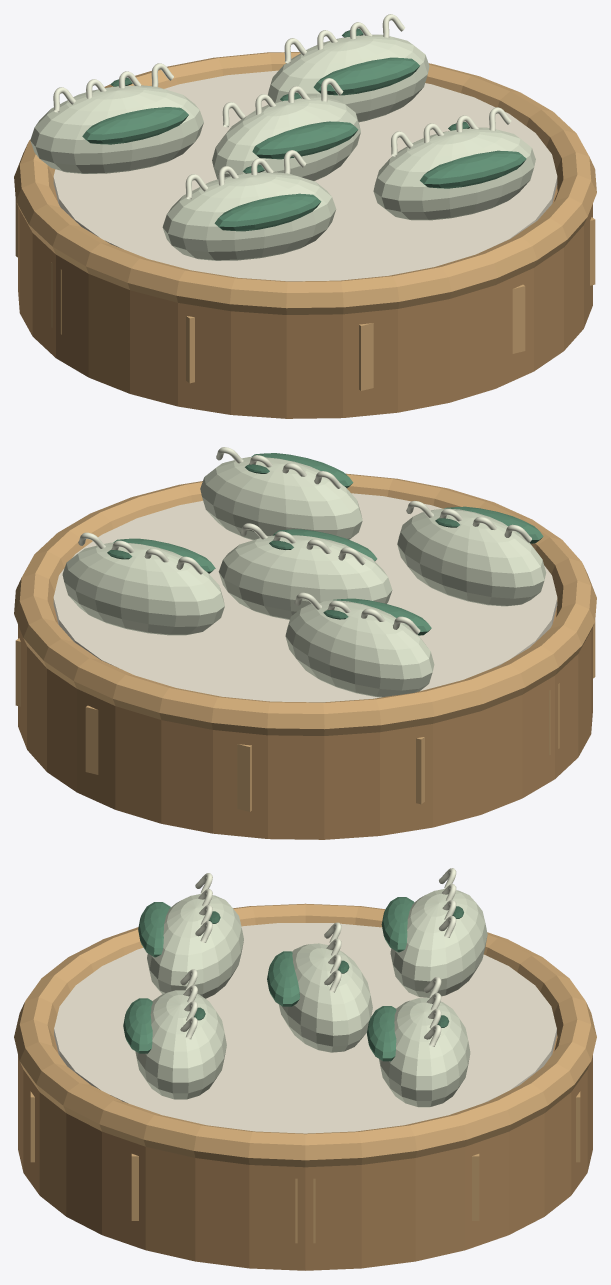
The model's file is steamer_seaweed_dumpling.glb.
The picture shows the model from 3 angles, top to bottom: view 1: azimuth 30°, elevation 25°; view 2: azimuth 150°, elevation 25°; view 3: azimuth 270°, elevation 25°; orthographic projection.
Parts seen in each view (by area): view 1: seaweed_dumpling_woven_base, seaweed_dumpling_paper_liner, seaweed_dumpling_top_binding, raw_vegetable_dumpling_0, raw_vegetable_dumpling_3, raw_vegetable_dumpling_1, raw_vegetable_dumpling_4, raw_vegetable_dumpling_2, open_green_filling_1, open_green_filling_0, open_green_filling_3, open_green_filling_2 (+4 smaller); view 2: seaweed_dumpling_woven_base, seaweed_dumpling_top_binding, seaweed_dumpling_paper_liner, raw_vegetable_dumpling_4, raw_vegetable_dumpling_0, raw_vegetable_dumpling_3, raw_vegetable_dumpling_2, raw_vegetable_dumpling_1, seaweed_dumpling_vertical_weave_3, seaweed_dumpling_vertical_weave_2, open_green_filling_3, open_green_filling_0 (+4 smaller); view 3: seaweed_dumpling_woven_base, seaweed_dumpling_paper_liner, seaweed_dumpling_top_binding, raw_vegetable_dumpling_3, raw_vegetable_dumpling_1, raw_vegetable_dumpling_4, raw_vegetable_dumpling_2, raw_vegetable_dumpling_0, open_green_filling_2, open_green_filling_1, open_green_filling_4, open_green_filling_3 (+3 smaller).
Part boxes in pixels (x1=…): seaweed_dumpling_woven_base: x1=18, y1=177, x2=592, y2=418; seaweed_dumpling_paper_liner: x1=53, y1=70, x2=557, y2=281; seaweed_dumpling_top_binding: x1=14, y1=52, x2=596, y2=314; raw_vegetable_dumpling_0: x1=162, y1=172, x2=336, y2=260; raw_vegetable_dumpling_3: x1=30, y1=85, x2=203, y2=173; raw_vegetable_dumpling_1: x1=373, y1=127, x2=535, y2=220; raw_vegetable_dumpling_4: x1=268, y1=34, x2=429, y2=122; raw_vegetable_dumpling_2: x1=212, y1=96, x2=360, y2=180; open_green_filling_1: x1=420, y1=150, x2=526, y2=188; open_green_filling_0: x1=214, y1=193, x2=321, y2=231; open_green_filling_3: x1=82, y1=107, x2=188, y2=144; open_green_filling_2: x1=252, y1=121, x2=358, y2=159; seaweed_dumpling_woven_base: x1=18, y1=598, x2=592, y2=839; seaweed_dumpling_top_binding: x1=14, y1=473, x2=596, y2=735; seaweed_dumpling_paper_liner: x1=53, y1=493, x2=557, y2=702; raw_vegetable_dumpling_4: x1=62, y1=542, x2=224, y2=635; raw_vegetable_dumpling_0: x1=397, y1=508, x2=546, y2=606; raw_vegetable_dumpling_3: x1=285, y1=600, x2=434, y2=697; raw_vegetable_dumpling_2: x1=218, y1=535, x2=392, y2=619; raw_vegetable_dumpling_1: x1=200, y1=457, x2=362, y2=540; seaweed_dumpling_vertical_weave_3: x1=237, y1=744, x2=251, y2=811; seaweed_dumpling_vertical_weave_2: x1=85, y1=705, x2=98, y2=774; open_green_filling_3: x1=333, y1=598, x2=431, y2=635; open_green_filling_0: x1=444, y1=506, x2=543, y2=543; seaweed_dumpling_woven_base: x1=18, y1=1035, x2=592, y2=1270; seaweed_dumpling_paper_liner: x1=54, y1=923, x2=556, y2=1133; seaweed_dumpling_top_binding: x1=14, y1=903, x2=596, y2=1167; raw_vegetable_dumpling_3: x1=390, y1=889, x2=487, y2=997; raw_vegetable_dumpling_1: x1=135, y1=990, x2=226, y2=1099; raw_vegetable_dumpling_4: x1=379, y1=998, x2=470, y2=1107; raw_vegetable_dumpling_2: x1=278, y1=943, x2=372, y2=1052; raw_vegetable_dumpling_0: x1=147, y1=894, x2=243, y2=998; open_green_filling_2: x1=267, y1=951, x2=299, y2=1006; open_green_filling_1: x1=123, y1=998, x2=152, y2=1053; open_green_filling_4: x1=367, y1=1006, x2=396, y2=1061; open_green_filling_3: x1=381, y1=897, x2=414, y2=952.
Size of the model in its own units: 0.742 by 0.2764 by 0.742.
